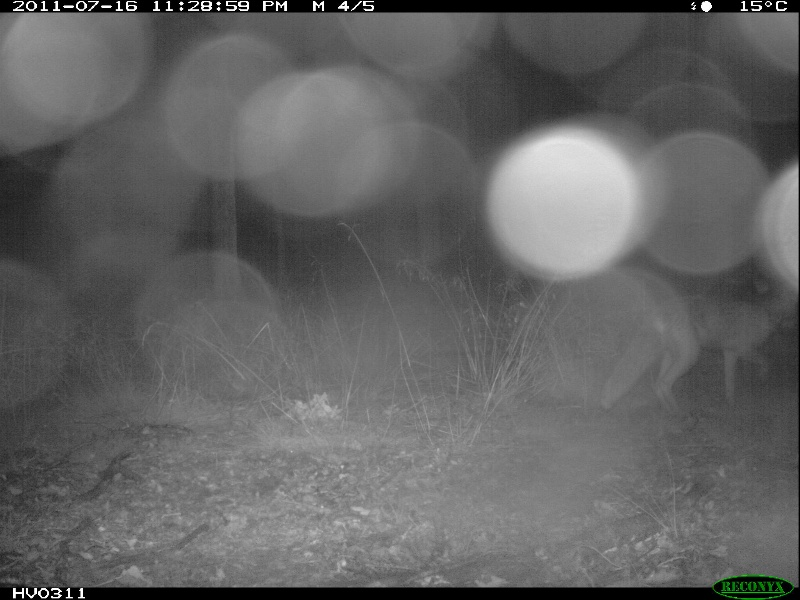fox: (599, 281, 800, 410)
